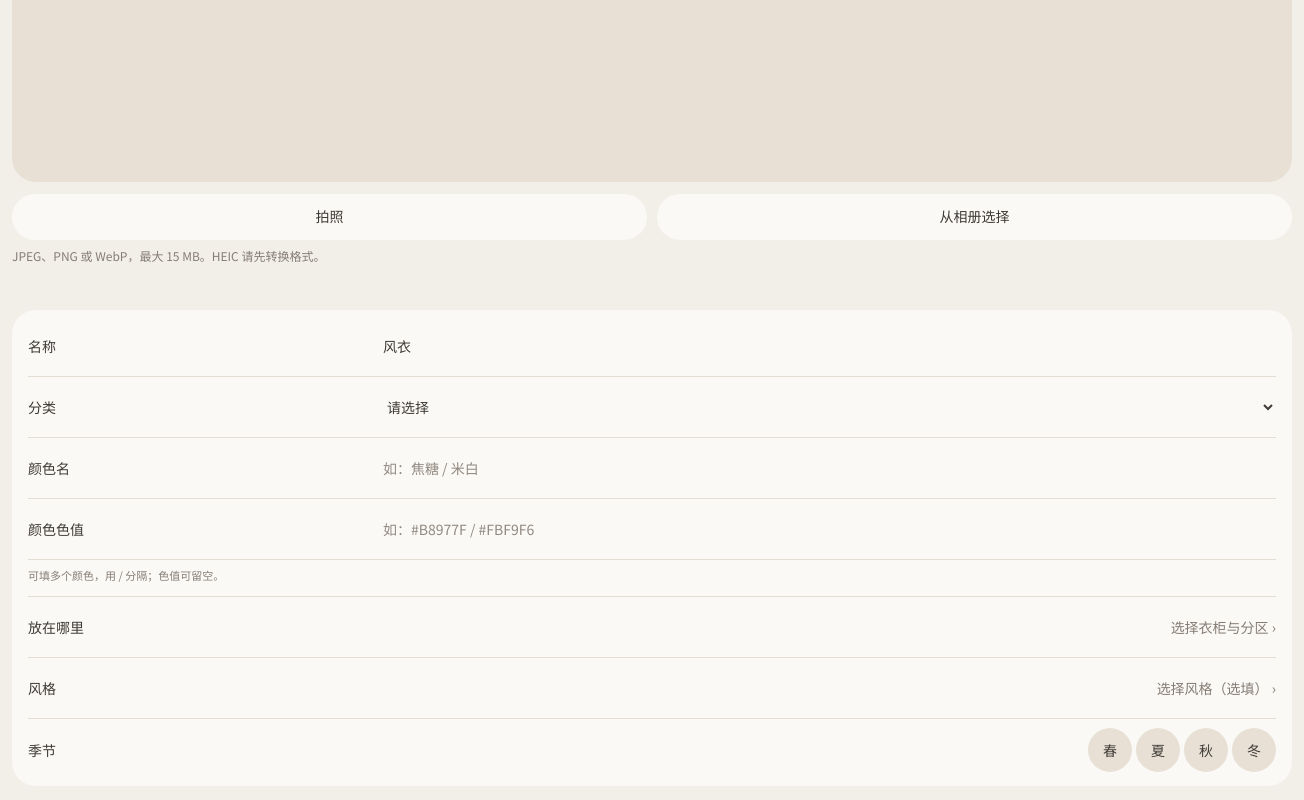
it: active edits use save-changes copy and retain active metadata after a failed save
(page scrolled)
Type "修改" into the field labelled "名称" at (828, 346), box top-left (379, 324), bottom-right (1276, 368)
(page scrolled)
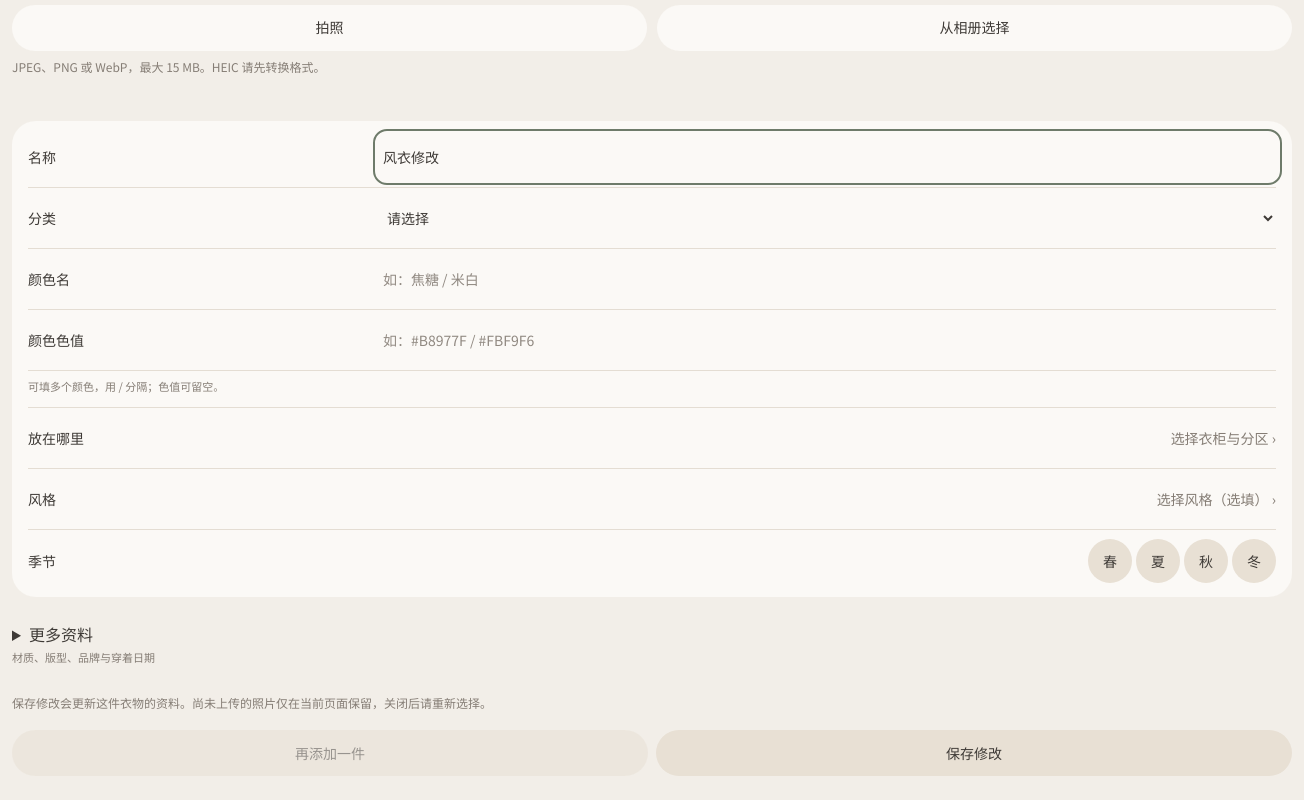
Click the button "保存修改" at (974, 753), box top-left (656, 730), bottom-right (1292, 776)
(page scrolled)
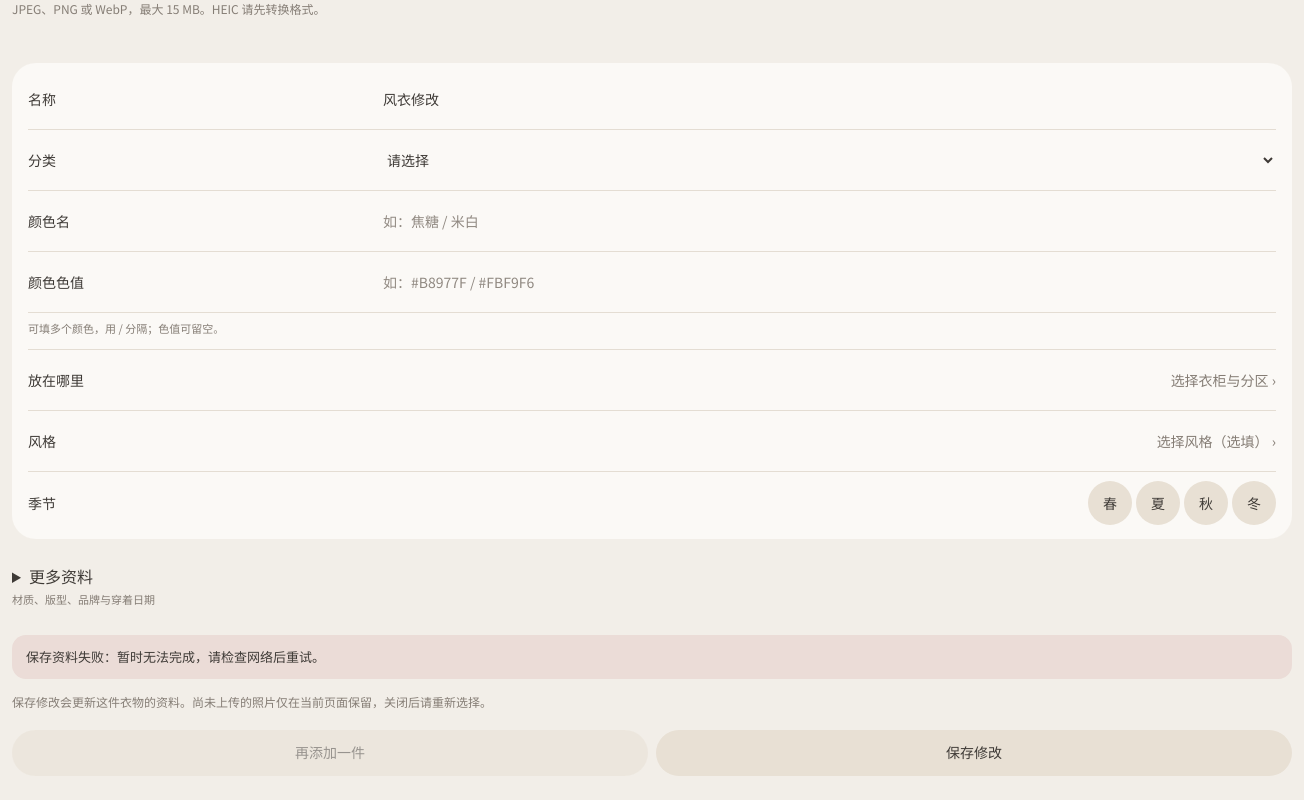
expect the field labelled "名称" holds "风衣修改": met, box top-left (379, 77), bottom-right (1276, 121)
expect the message "保存资料失败：暂时无法完成，请检查网络后重试。" is shown: met, box top-left (12, 634), bottom-right (1292, 679)
Click the button "保存修改" at (974, 752), box top-left (656, 730), bottom-right (1292, 776)
(page scrolled)
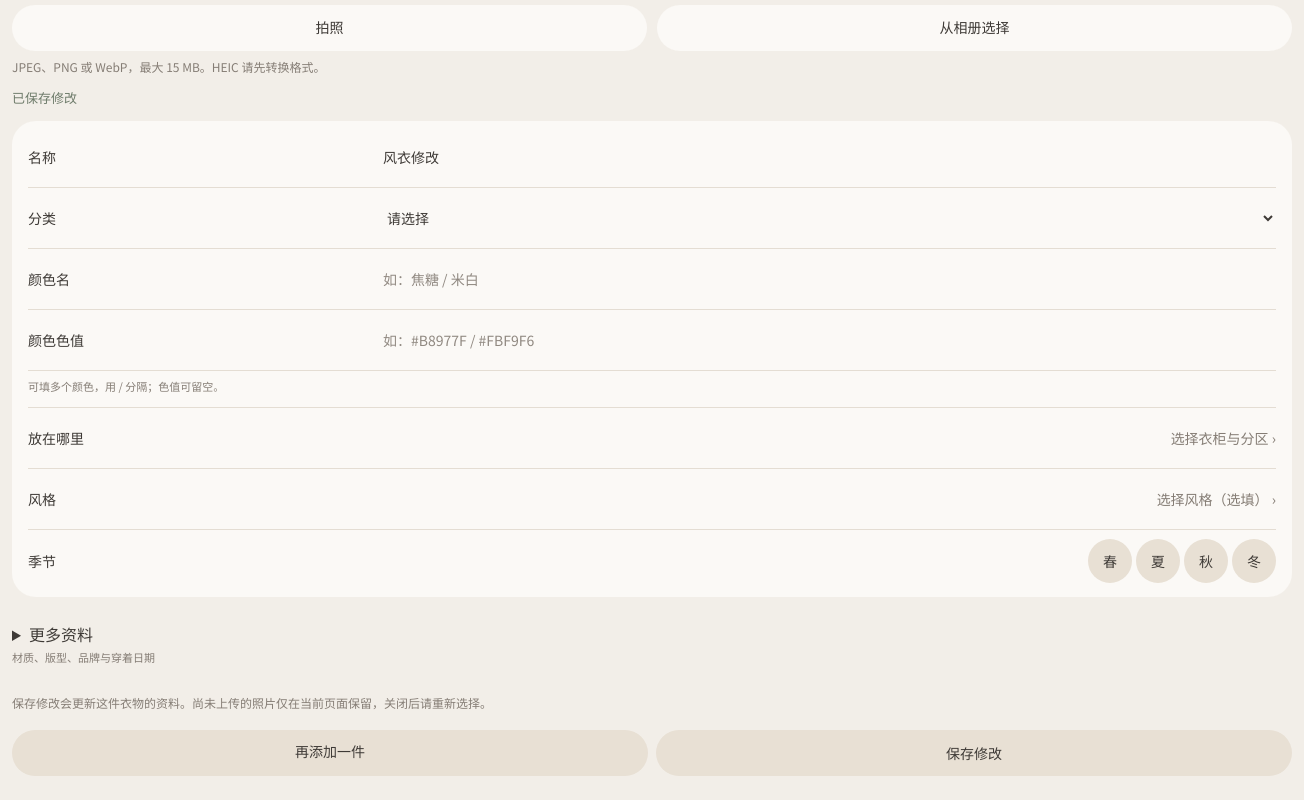
expect the text "已保存修改" is shown: met, box top-left (12, 88), bottom-right (77, 107)
